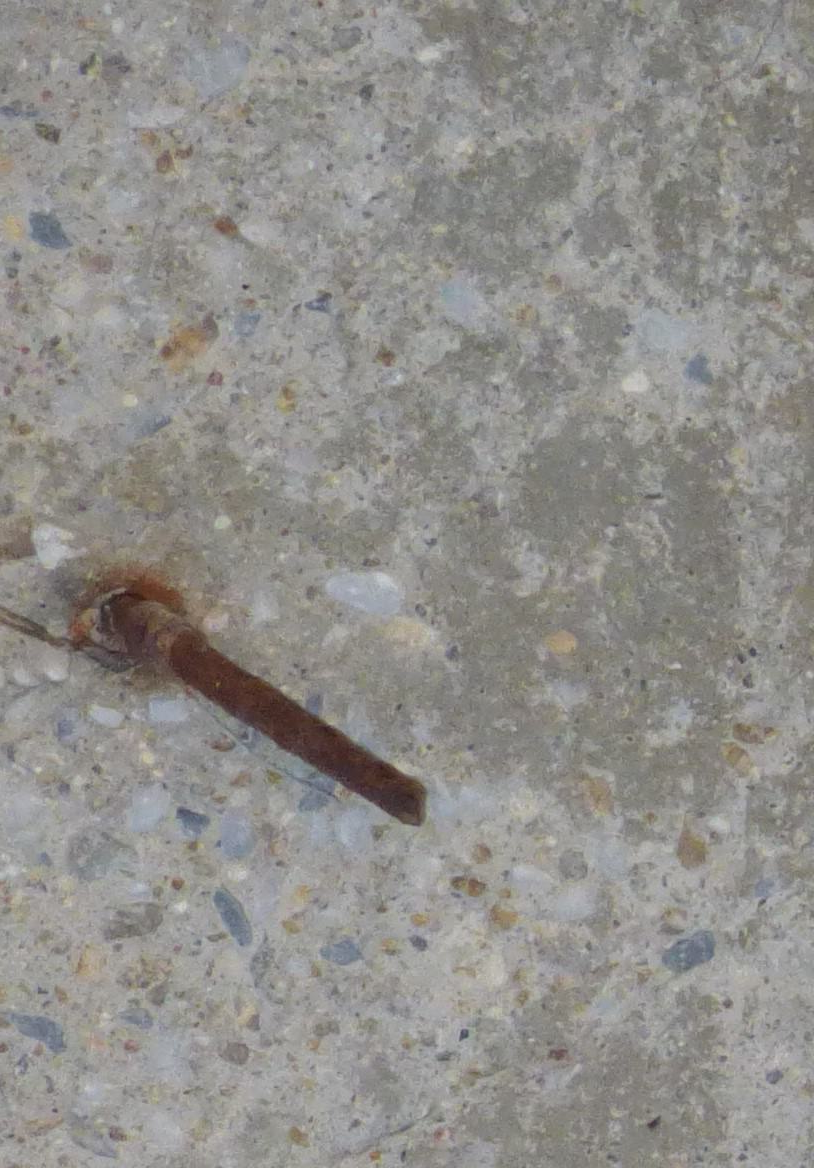Exposed reinforcement: (110, 594, 430, 827)
